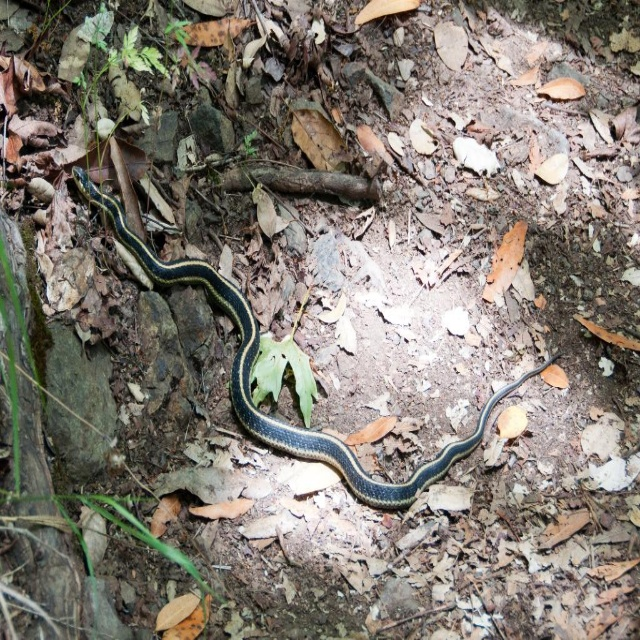Snake: (71, 165, 568, 510)
